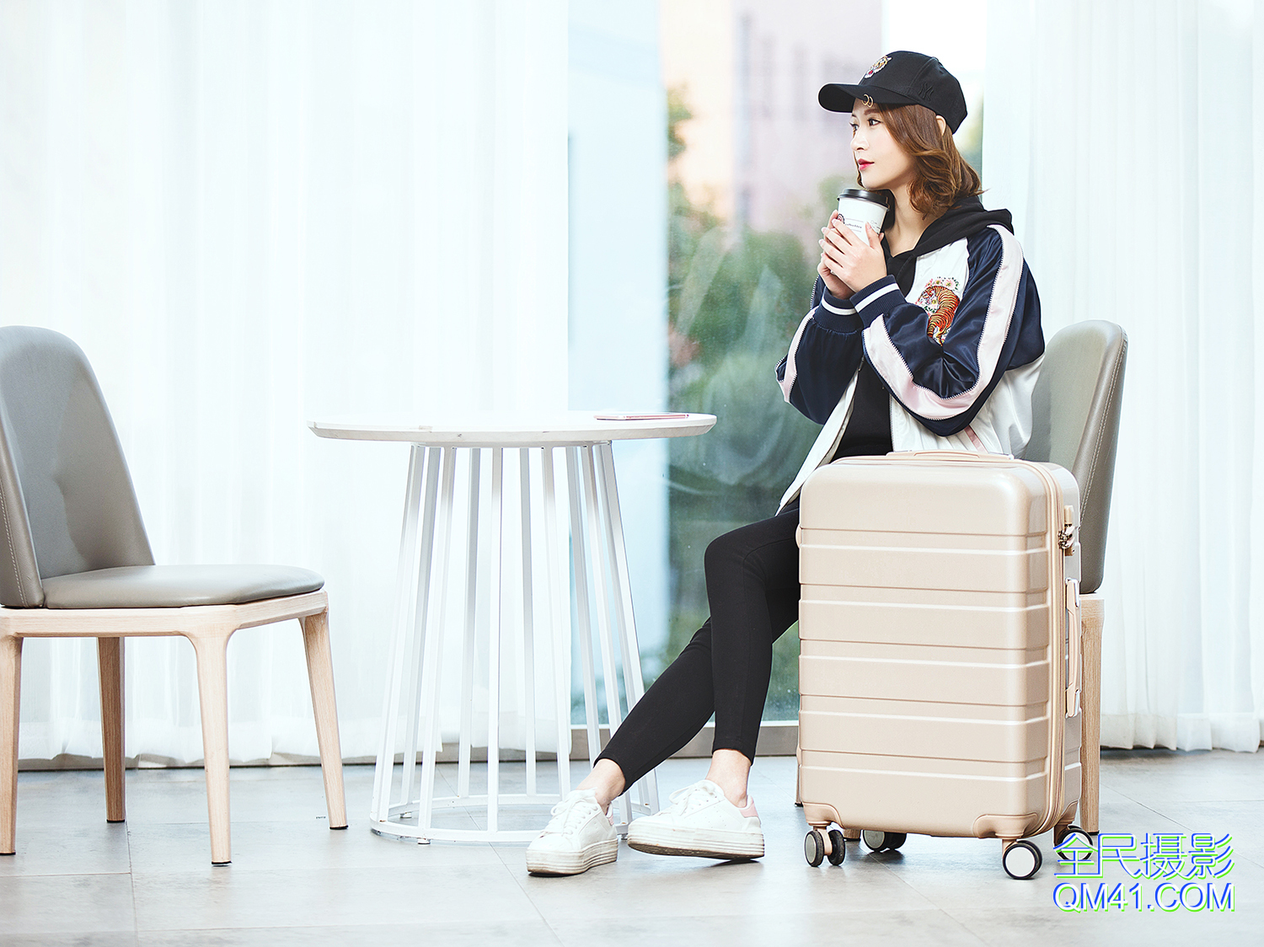box: (798, 455, 1081, 840)
handle: (1064, 578, 1083, 718)
lock: (1061, 503, 1079, 556)
wheel: (804, 831, 847, 869), (1002, 840, 1042, 880), (863, 825, 907, 851)
